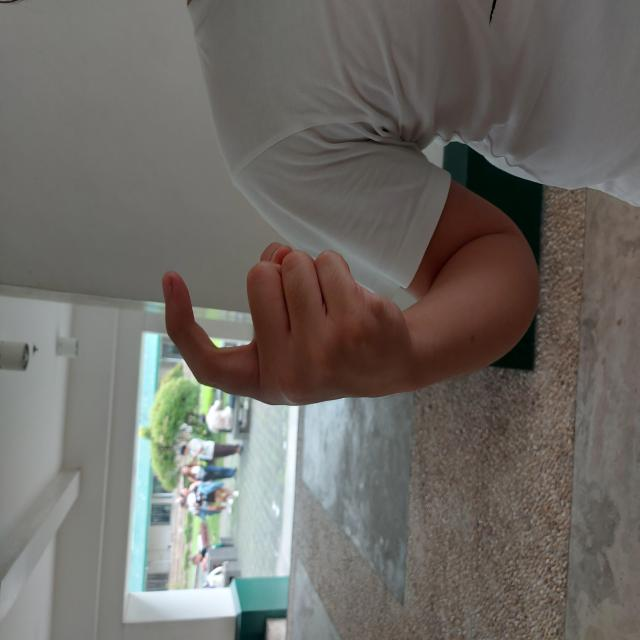X: (229, 160, 402, 412)
